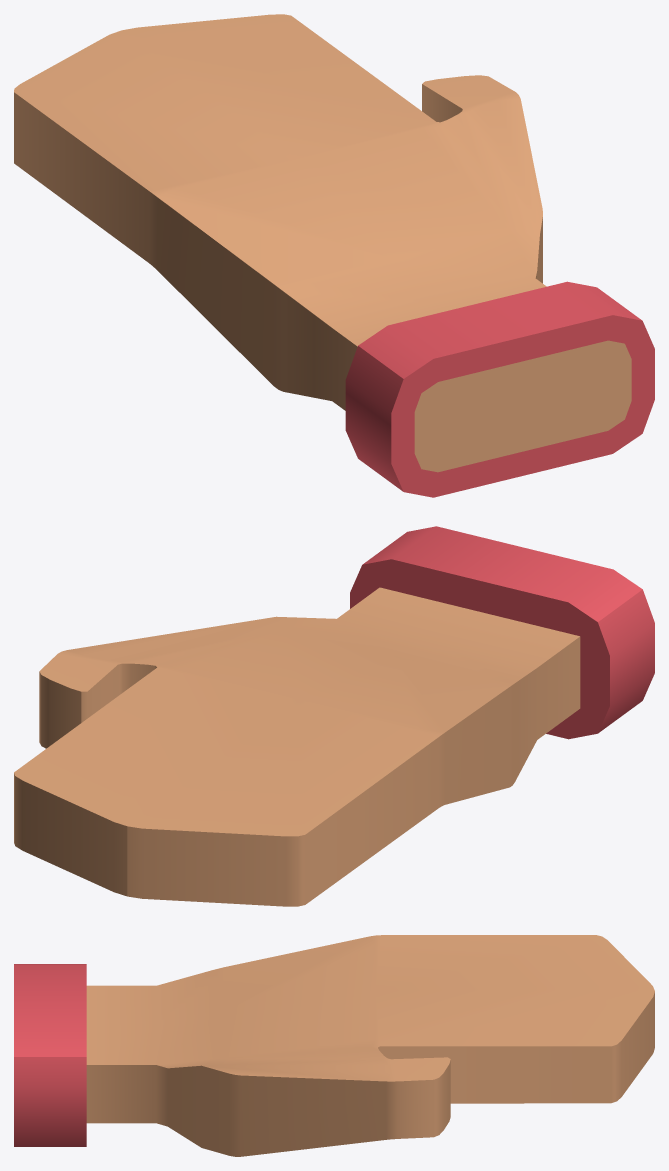
The model's file is Mano_j1_izq.fbx.
3 renders of one model, top to bottom at view 1: azimuth 30°, elevation 25°; view 2: azimuth 150°, elevation 25°; view 3: azimuth 270°, elevation 25°, orthographic. The views are drawn at different scales.
Visible parts, largest first — view 1: Cube.009; view 2: Cube.009; view 3: Cube.009.
Boxes of the visible parts, <box> form: Cube.009: <box>14,14,654,497</box>; Cube.009: <box>14,526,654,906</box>; Cube.009: <box>14,935,654,1156</box>.
Size of the model in its own units: 135 by 250 by 51.65.
